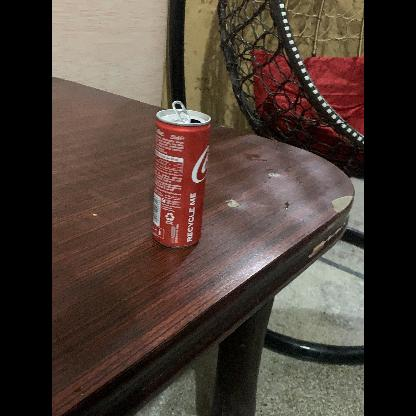Lid_Open: (172, 100, 204, 132)
Tin_Can: (150, 100, 218, 262)
